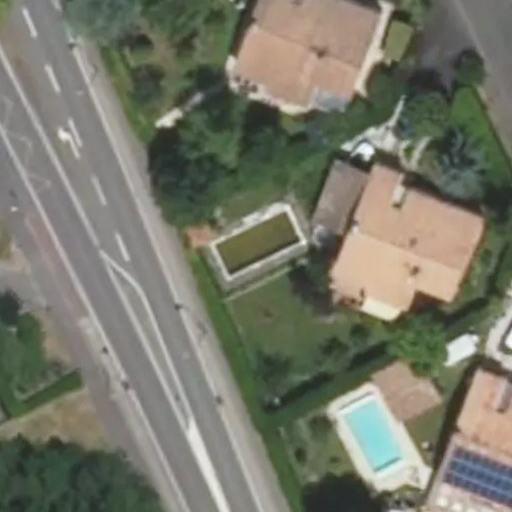pool: (339, 390, 409, 483), (210, 203, 303, 272)
